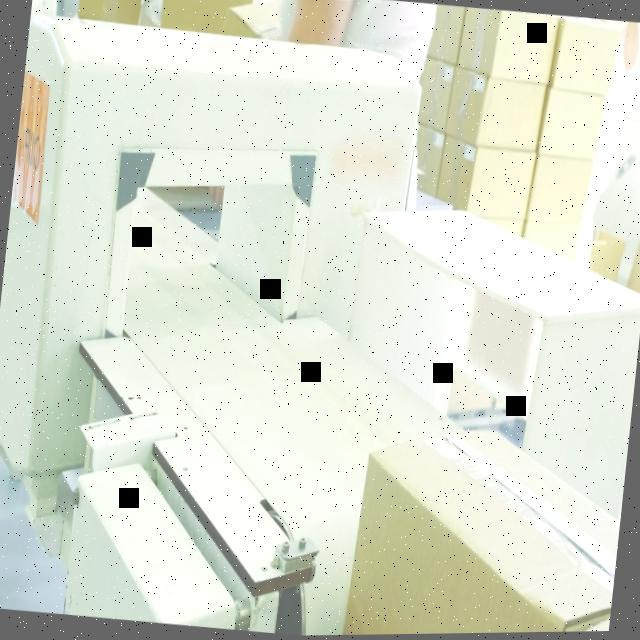box: (341, 416, 628, 636), (568, 615, 609, 633)
